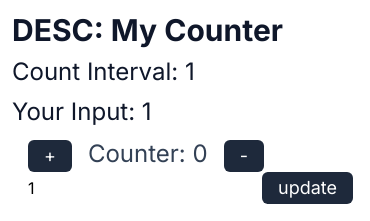
Test case: tests to see if increment and decrement buttons are correcting updating count with correct defaultCountInterval › tests to see if increment button is correcting incrementing count with correct defaultCountInterval › when clicked, correctly increments count by 1 when defaultCountInterval is 1
Click the button named "increment": click(50, 156) [28, 140, 72, 172]
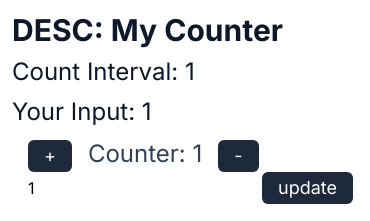
Result: the text "Counter: 1" is shown at [88, 139, 202, 168]
